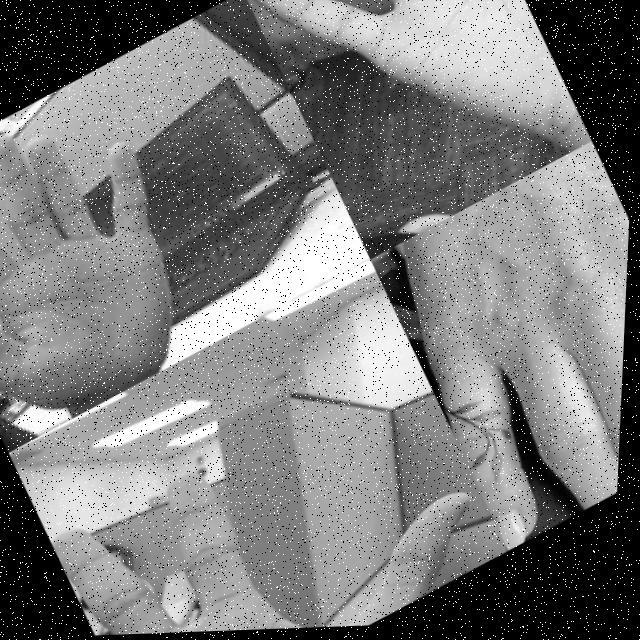no-gloves: (49, 345, 516, 638), (362, 144, 634, 559), (0, 76, 237, 450), (239, 0, 579, 225)
